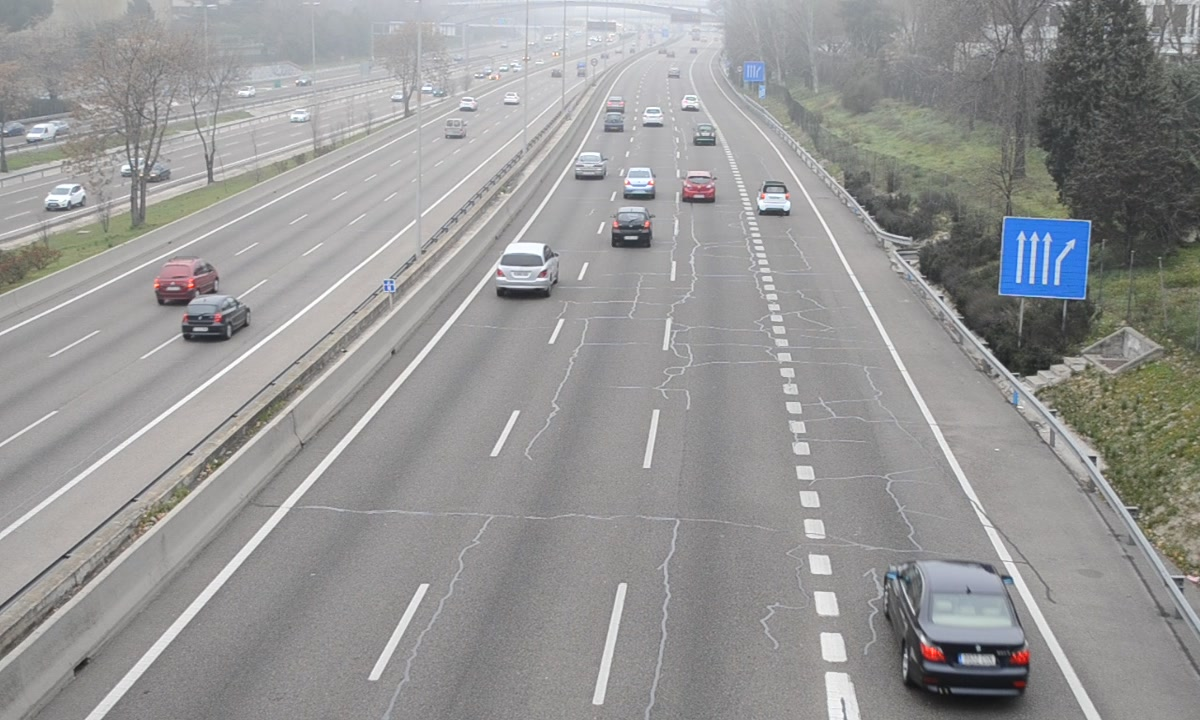car: (885, 559, 1029, 698), (495, 240, 559, 293), (610, 206, 655, 249), (758, 180, 792, 217), (623, 166, 657, 200), (683, 171, 718, 204), (573, 152, 608, 182), (692, 122, 718, 147), (602, 113, 626, 133)
